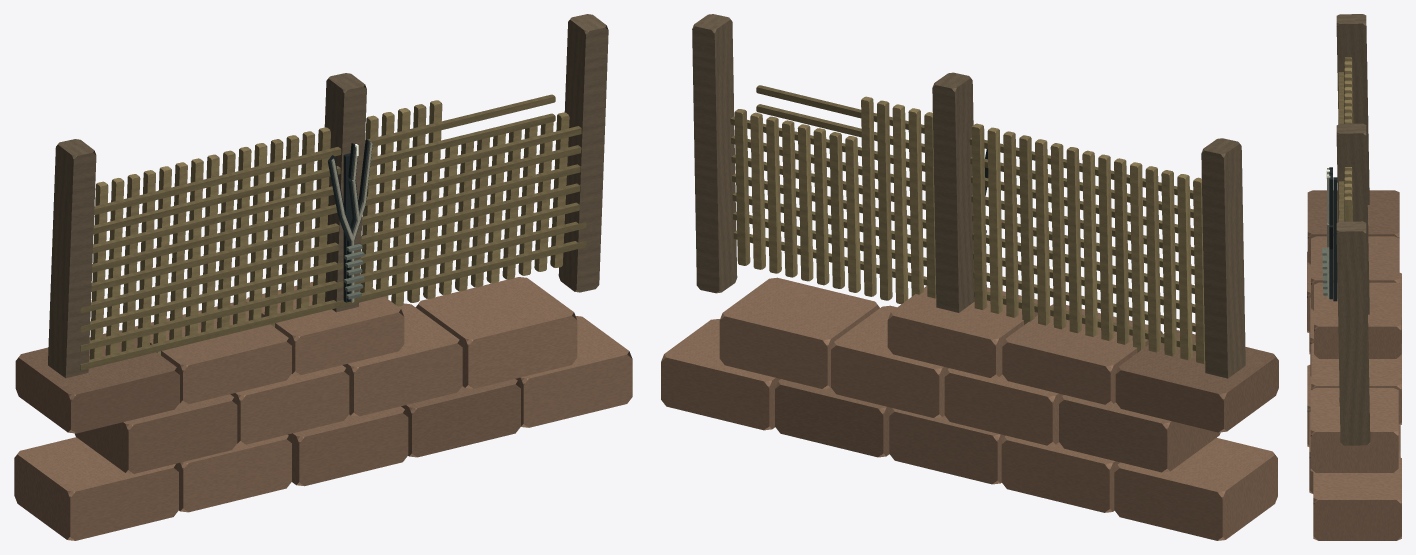
Rendered from cataclysm_fen_wall.glb.
3 renders of one model, left to right at view 1: azimuth 30°, elevation 25°; view 2: azimuth 150°, elevation 25°; view 3: azimuth 270°, elevation 25°, orthographic. The views are drawn at different scales.
Visible parts, largest first — view 1: cataclysm_fen_wall; view 2: cataclysm_fen_wall; view 3: cataclysm_fen_wall.
Boxes of the visible parts, box(x1,y1,x2,y2) form: cataclysm_fen_wall: box(14, 14, 632, 540); cataclysm_fen_wall: box(661, 14, 1278, 540); cataclysm_fen_wall: box(1307, 14, 1401, 540).
Size of the model in its own units: 2.73 by 1.71 by 0.4792.
Materials: 5 (5 with a texture image).
